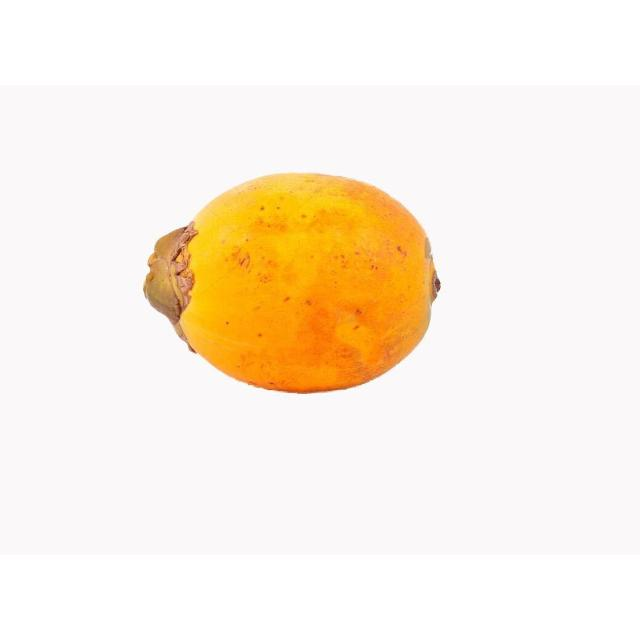good: (144, 173, 441, 396)
